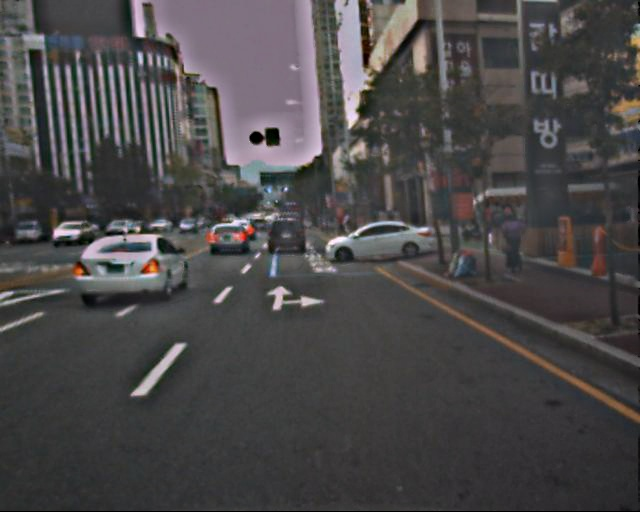person: (498, 209, 526, 277), (488, 198, 512, 257)
